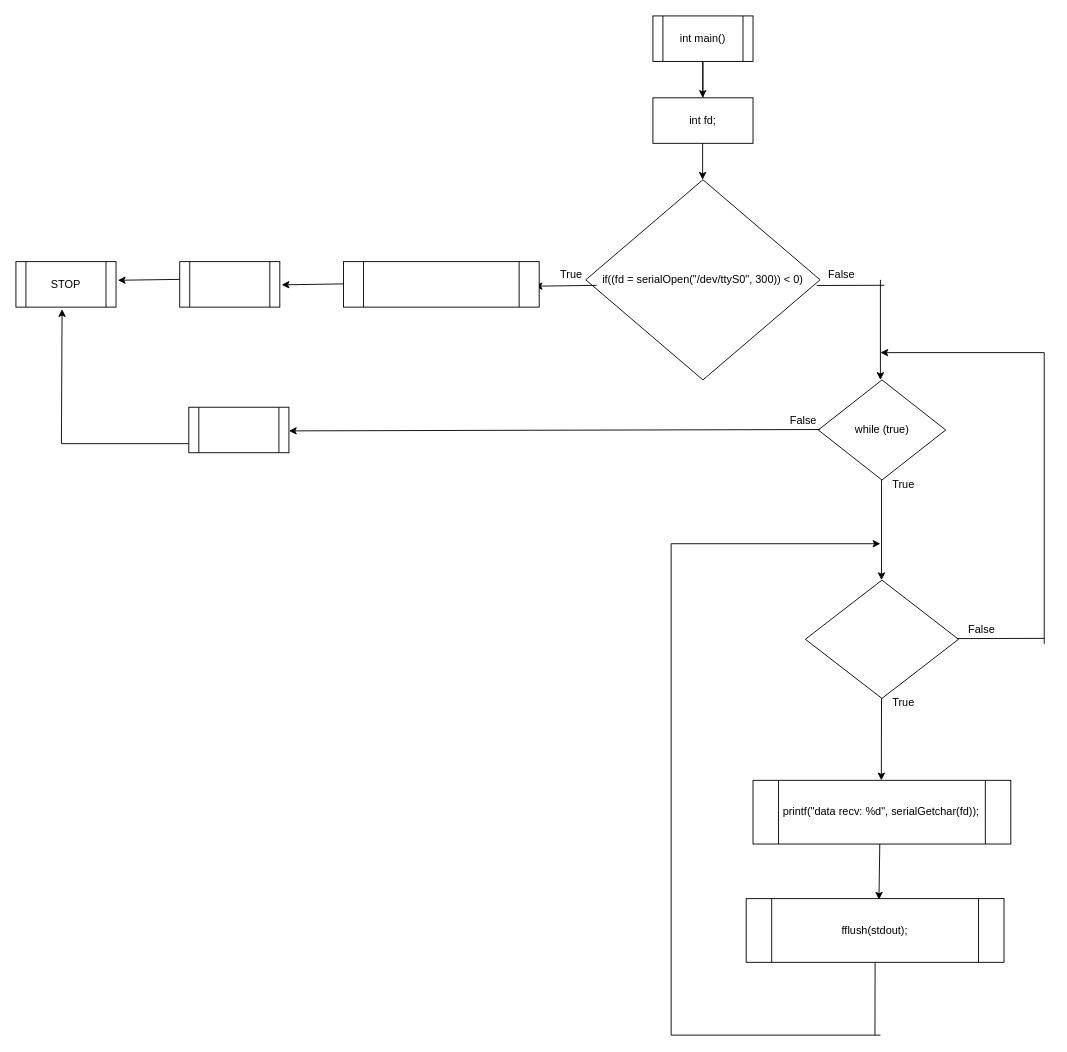
This 1067x1052 diagram has some shape labels left out. The centre of each missing label's shape, as x and y in pixels:
fprintf(stderr, "Unable to open serial device: %s\n", strerror(errorno)): pixel 441 284
return 0;: pixel 238 429
return 1;: pixel 229 284
while (serialDataAvail(fd)): pixel 881 638
